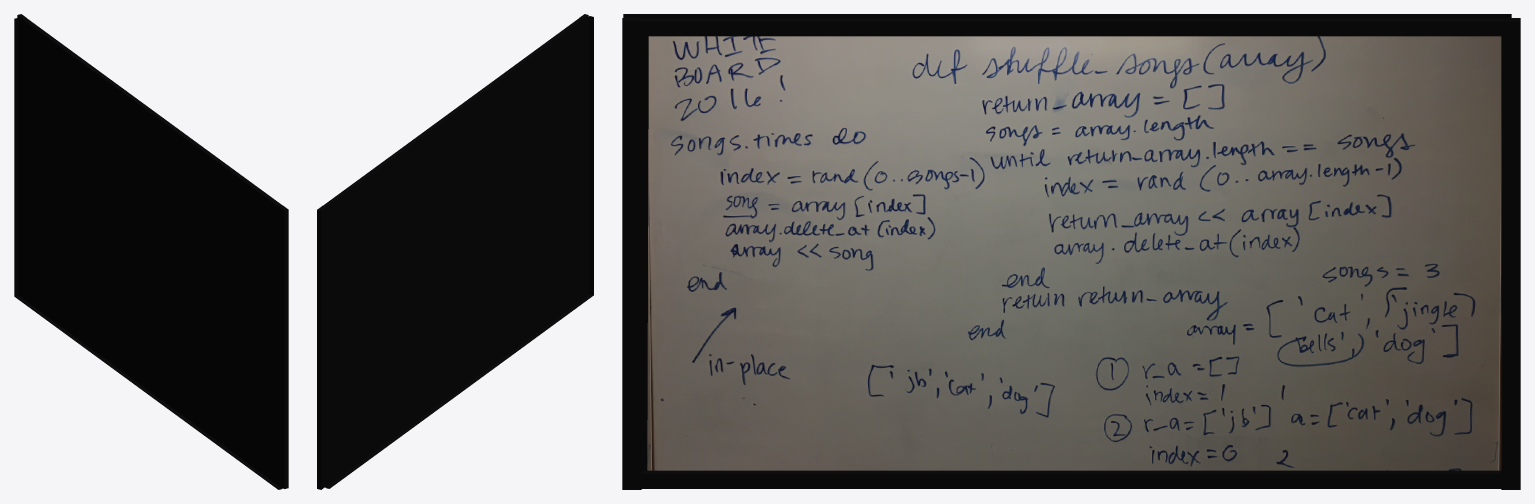
Rendered from whiteboard.obj.
The picture shows the model from 3 angles, left to right: view 1: azimuth 30°, elevation 25°; view 2: azimuth 150°, elevation 25°; view 3: azimuth 270°, elevation 25°; orthographic projection. The views are drawn at different scales.
Parts seen in each view (by area): view 1: Cube, Cube.004; view 2: Cube, Cube.004; view 3: Plane, Cube.004, Cube.
Part boxes in pixels (left/top/right/bottom): Cube: left=14, top=17, right=282, bottom=489; Cube.004: left=17, top=14, right=288, bottom=488; Cube: left=325, top=16, right=593, bottom=488; Cube.004: left=317, top=14, right=588, bottom=489; Plane: left=647, top=36, right=1501, bottom=470; Cube.004: left=622, top=18, right=1520, bottom=489; Cube: left=623, top=14, right=1511, bottom=470.
Bounding box in the file's own units: 0.1047 × 2.86 × 4.97.
